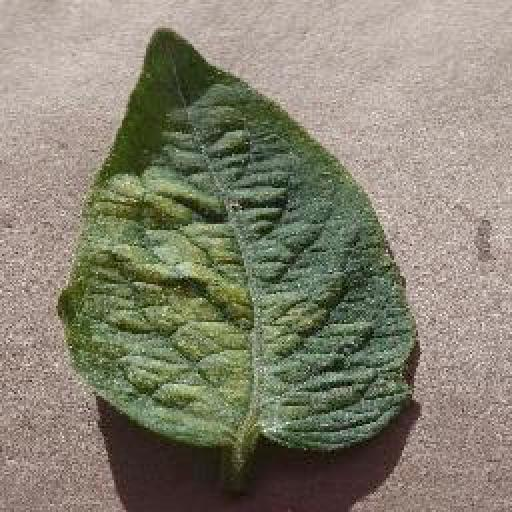disease_tomato: (56, 26, 418, 450)
